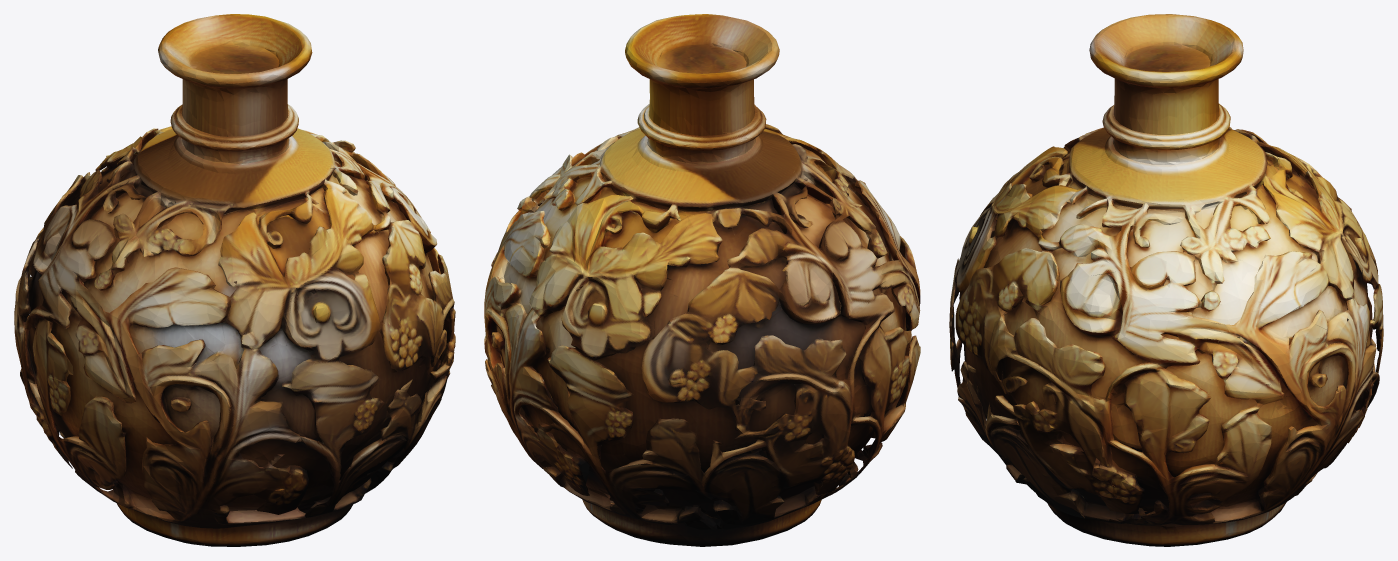
File: wooden-perfume-bottle-3d.jpeg.glb
3 renders of one model, left to right at view 1: azimuth 30°, elevation 25°; view 2: azimuth 150°, elevation 25°; view 3: azimuth 270°, elevation 25°, orthographic.
Parts seen in each view (by area): view 1: world; view 2: world; view 3: world.
Boxes of the visible parts, bbox=[...] form: world: bbox=[14, 14, 455, 546]; world: bbox=[484, 14, 920, 546]; world: bbox=[949, 14, 1383, 546].
Bounding box in the file's own units: 0.8649 × 0.9988 × 0.8568.
1 material, 1 textured.
